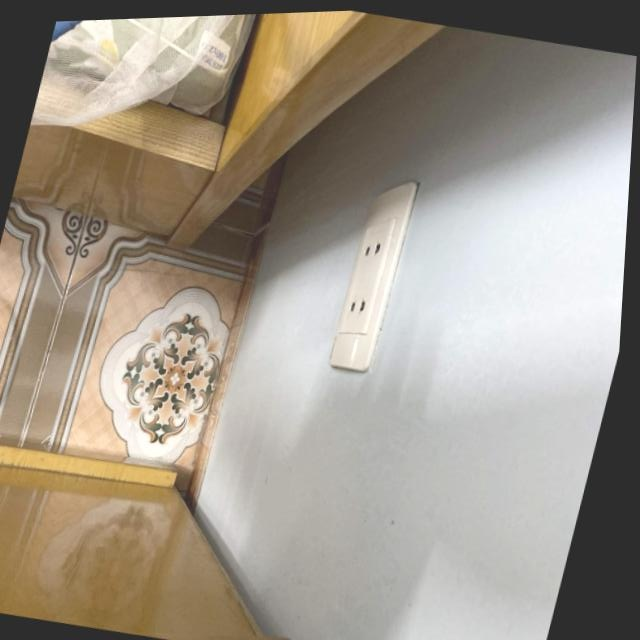outlet: (326, 173, 420, 375)
